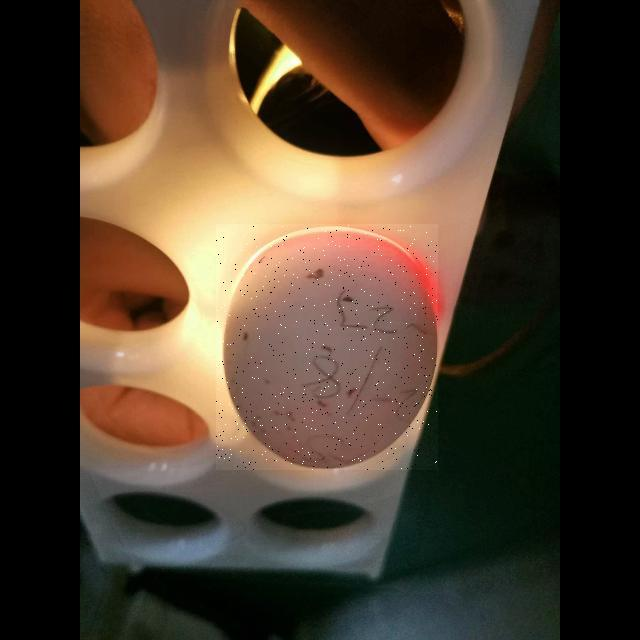Fertile: (216, 224, 438, 470)
